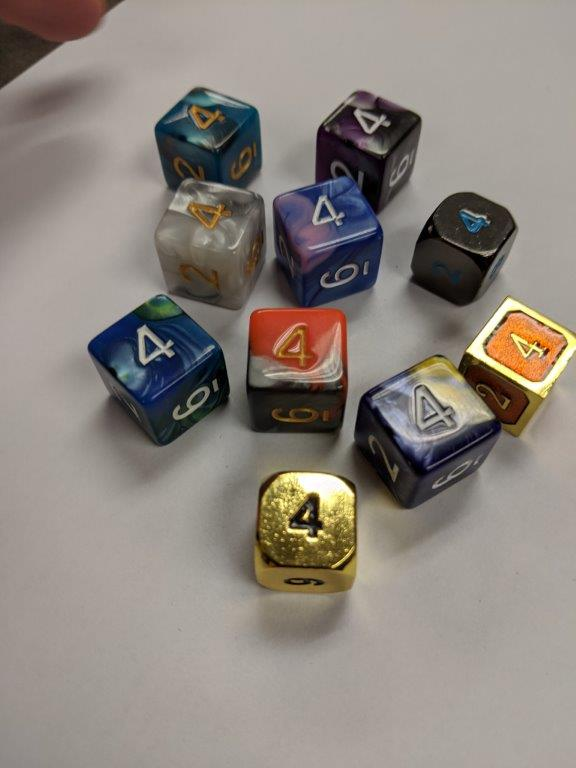d6-4: (86, 294, 230, 446), (359, 351, 496, 507), (458, 299, 576, 439), (152, 177, 265, 308), (270, 175, 379, 304), (407, 187, 516, 307), (247, 308, 348, 434), (317, 89, 420, 207), (257, 473, 356, 595), (153, 84, 262, 190)
